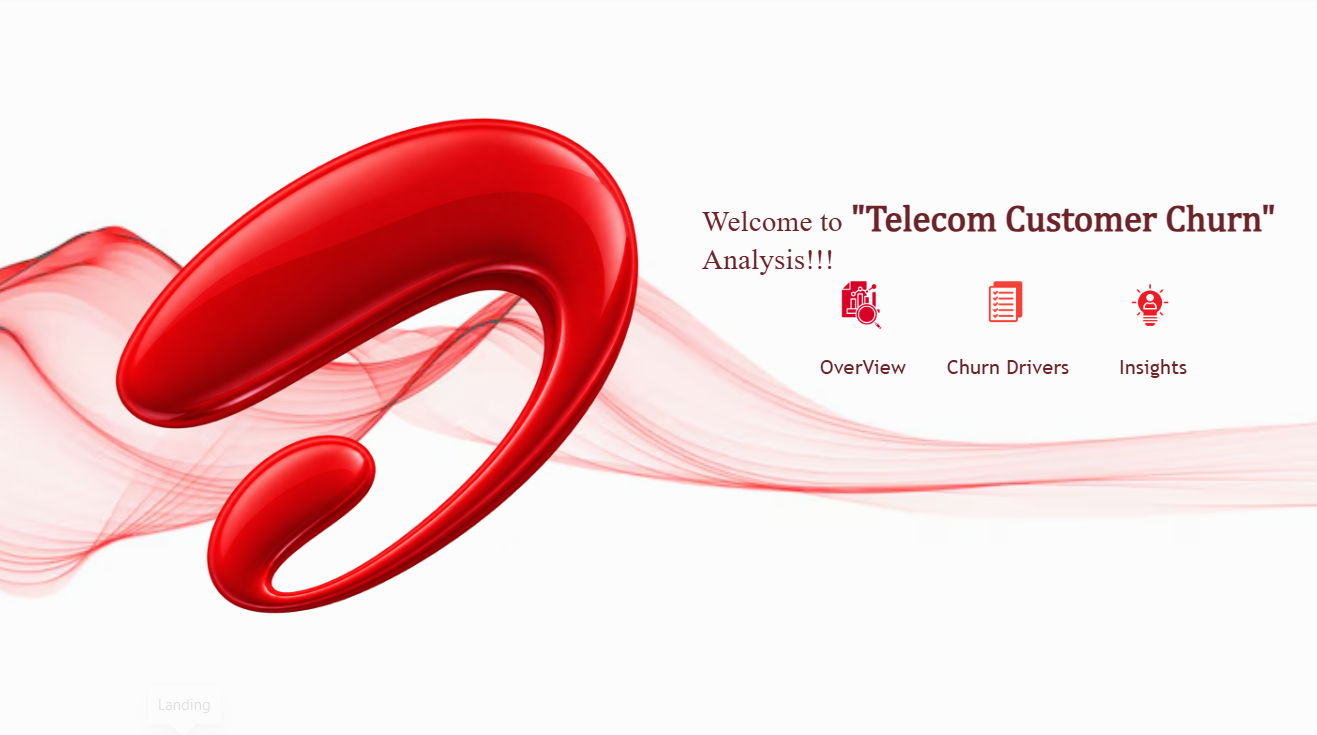

What the dashboard file says about the page in this screenshot:
{"tool":"powerbi","page":{"name":"Landing","canvas":[1920,1080],"ordinal":0},"visuals":[{"type":"textbox","box":[1020.3,293.7,879.1,120.1],"z":1000},{"type":"image","box":[68.7,0,951.6,1081.3],"z":2000},{"type":"image","box":[1424.6,413.8,72.5,59.1],"z":2002},{"type":"image","box":[1634.3,413.8,70.6,68.7],"z":2003},{"type":"pageNavigator","box":[1151.9,497.7,623.6,83.9],"z":2004},{"type":"image","box":[1205.2,413.8,93.4,68.7],"z":2005}]}

Visuals, with their boxes in screenshot pixels (x1, y1, x2, y2), scaled from the page's 1920x1080 canvas onto the 1317x735 screenshot:
textbox: [left=700, top=200, right=1303, bottom=282]
image: [left=47, top=0, right=700, bottom=734]
image: [left=977, top=282, right=1027, bottom=322]
image: [left=1121, top=282, right=1169, bottom=328]
pageNavigator: [left=790, top=339, right=1218, bottom=396]
image: [left=827, top=282, right=891, bottom=328]
